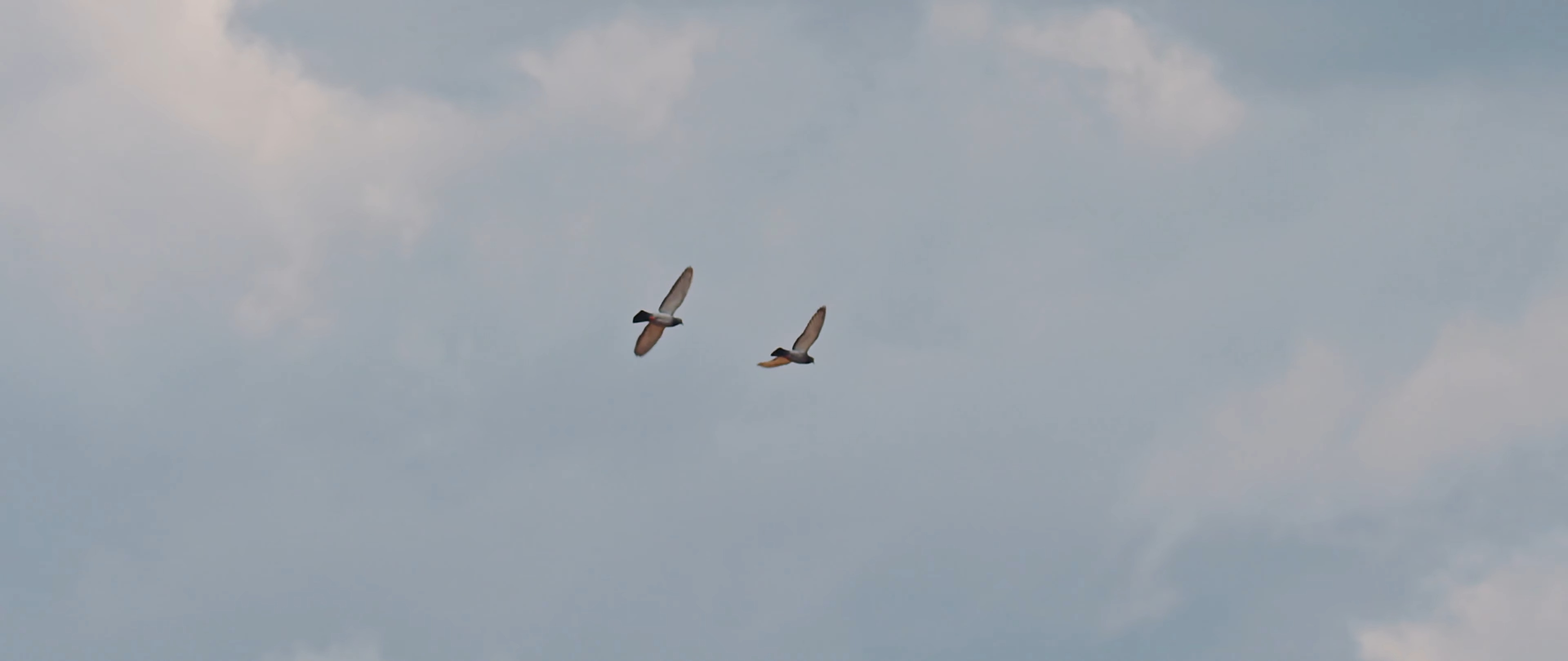bird: (742, 295, 857, 389), (620, 259, 703, 357)
